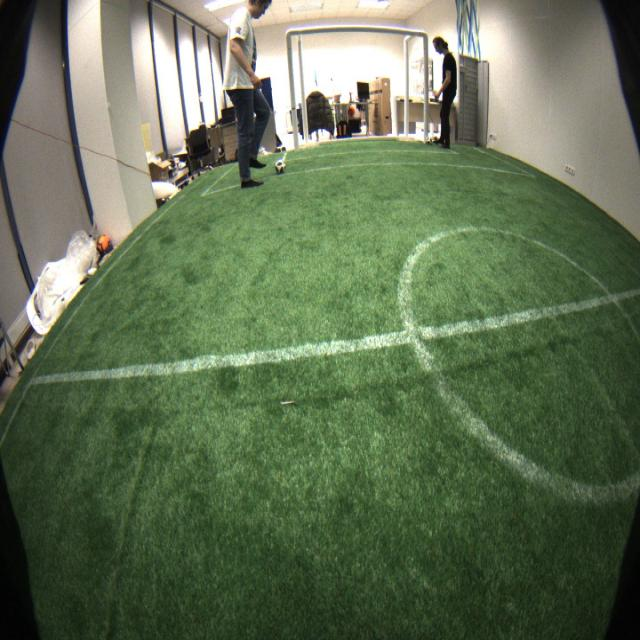ball: (276, 160, 286, 176), (424, 137, 433, 146)
goalpost: (286, 30, 299, 152), (422, 32, 428, 142)
